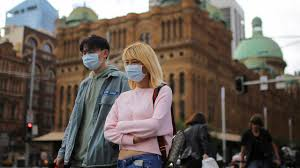with-mask: (75, 34, 113, 77), (122, 45, 156, 86)
